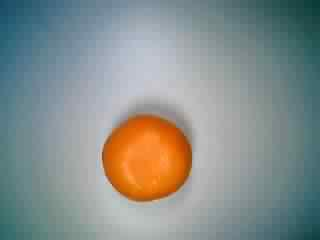orange: (97, 110, 198, 205)
